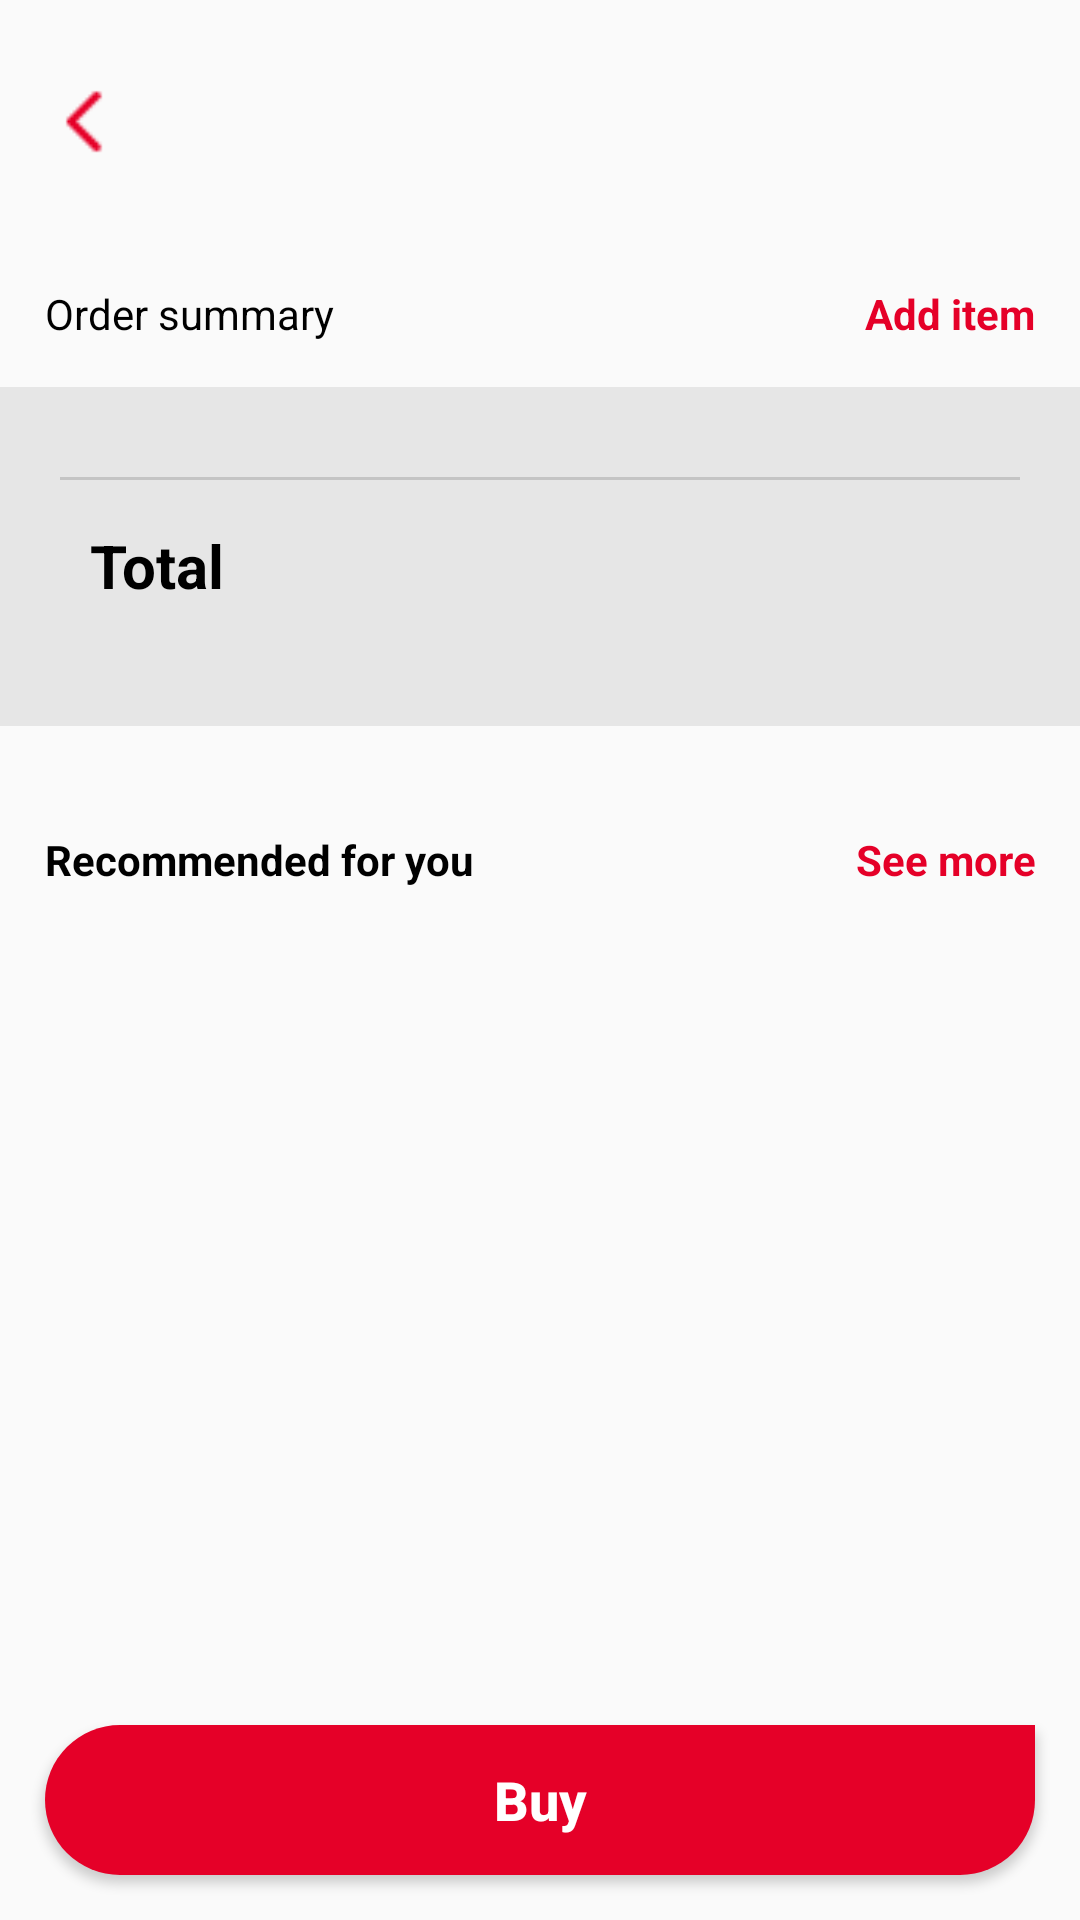

Where icons sit on this 1080 × 1920 app screen, as (x1, y1, x2, y2):
back: (66, 91, 102, 152)
